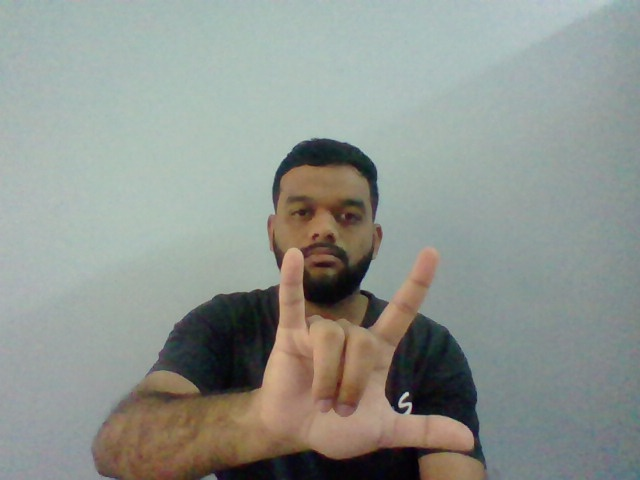I love you: (270, 246, 474, 454)
